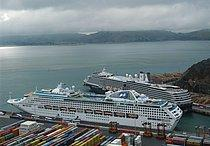Ship: (4, 82, 187, 134)
